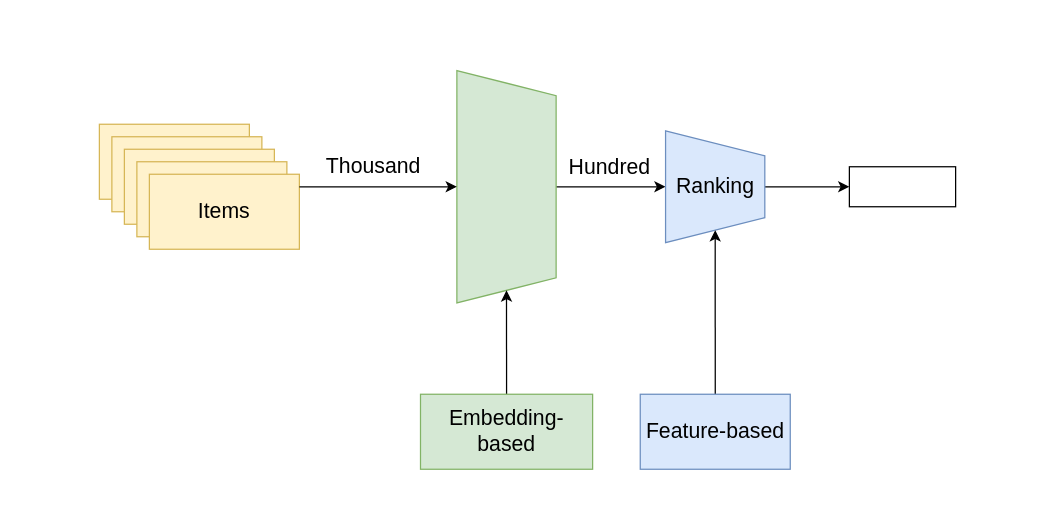
Some shapes in this 1043 by 518 pixel diagram are drawn without their labels. Each missing label, with the centre of its shape:
Candidate retrieval: (x=506, y=186)
Output: (x=902, y=186)
